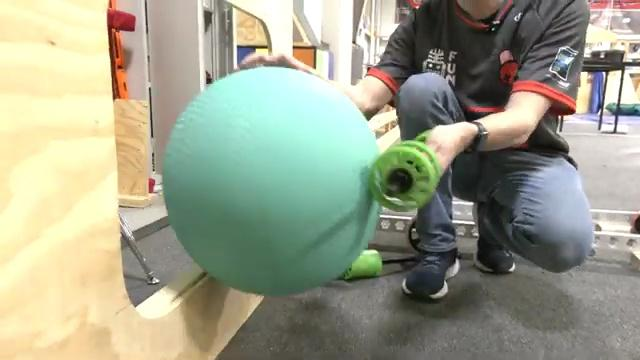ALGAE: (162, 66, 383, 298)
